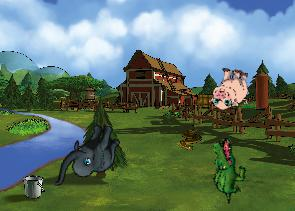crocodile: (196, 135, 257, 204)
elephant: (53, 116, 122, 196)
pig: (208, 65, 252, 112)
